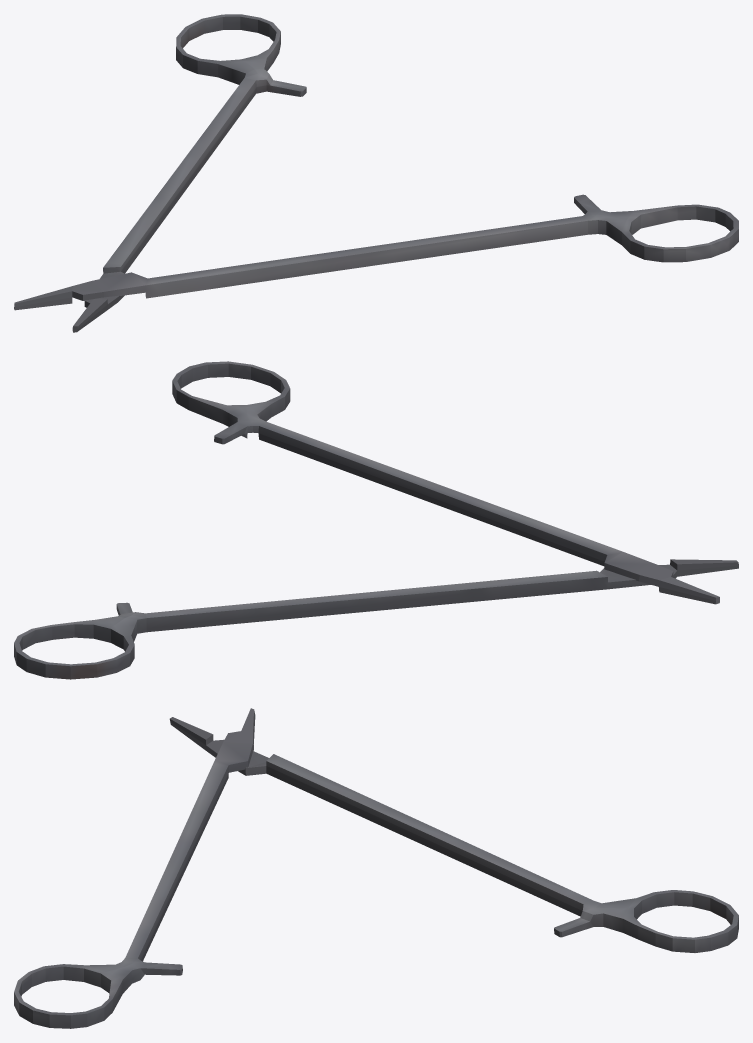
File: scissors_01.fbx
3 views of the same model, one above another, from view 1: azimuth 30°, elevation 25°; view 2: azimuth 150°, elevation 25°; view 3: azimuth 270°, elevation 25° (orthographic).
Parts seen in each view (by area): view 1: scissors_01; view 2: scissors_01; view 3: scissors_01.
Boxes of the visible parts, box(x1,y1,x2,y2) form: scissors_01: box(14, 14, 738, 332); scissors_01: box(14, 361, 738, 679); scissors_01: box(14, 708, 738, 1028).
Size of the model in its own units: 0.1109 by 0.0027 by 0.1094.
